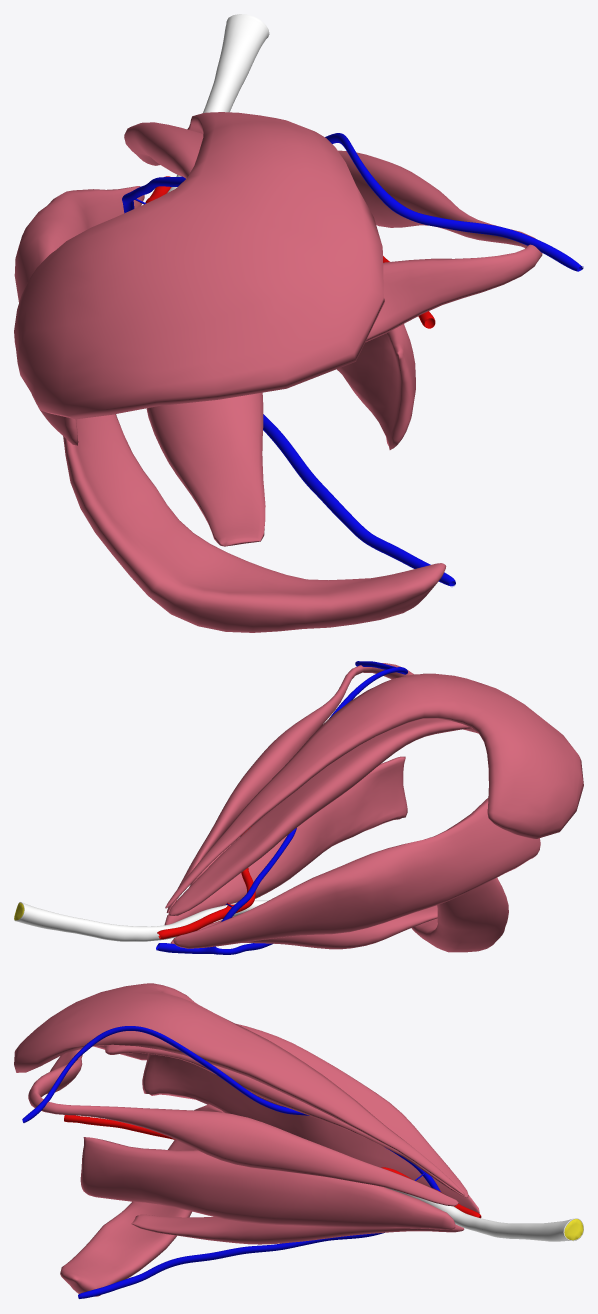
File: VH_F_Eye_R_Landmarks.fbx
The picture shows the model from 3 angles, top to bottom: view 1: azimuth 30°, elevation 25°; view 2: azimuth 150°, elevation 25°; view 3: azimuth 270°, elevation 25°; orthographic projection. The views are drawn at different scales.
Visible parts, largest first — view 1: VH_F_eye_R_landmark_muscles, VH_F_eye_R_landmark_veins, VH_F_eye_R_landmark_dura_mater_optic_nerve; view 2: VH_F_eye_R_landmark_muscles, VH_F_eye_R_landmark_dura_mater_optic_nerve, VH_F_eye_R_landmark_veins, VH_F_eye_R_landmark_arteries; view 3: VH_F_eye_R_landmark_muscles, VH_F_eye_R_landmark_veins, VH_F_eye_R_landmark_dura_mater_optic_nerve, VH_F_eye_R_landmark_arteries.
Boxes of the visible parts, x1,y1,x2,y2 form: VH_F_eye_R_landmark_muscles: (14, 112, 542, 632); VH_F_eye_R_landmark_veins: (122, 133, 583, 586); VH_F_eye_R_landmark_dura_mater_optic_nerve: (167, 14, 269, 192); VH_F_eye_R_landmark_muscles: (164, 663, 583, 952); VH_F_eye_R_landmark_dura_mater_optic_nerve: (14, 900, 269, 941); VH_F_eye_R_landmark_veins: (156, 661, 407, 954); VH_F_eye_R_landmark_arteries: (157, 827, 255, 939); VH_F_eye_R_landmark_muscles: (14, 983, 479, 1296); VH_F_eye_R_landmark_veins: (22, 1026, 440, 1298); VH_F_eye_R_landmark_dura_mater_optic_nerve: (385, 1187, 583, 1241); VH_F_eye_R_landmark_arteries: (64, 1115, 481, 1218).
Bounding box in the file's own units: 4.77 × 3.58 × 6.67.
